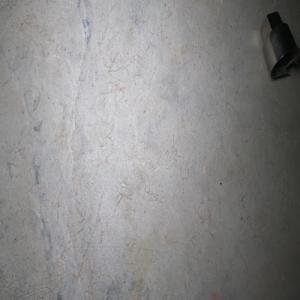MetalPart: (259, 10, 300, 79)
